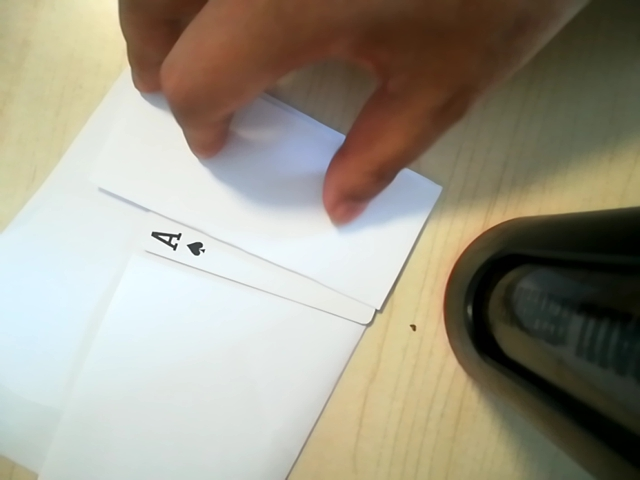ht a: (134, 212, 306, 280)
